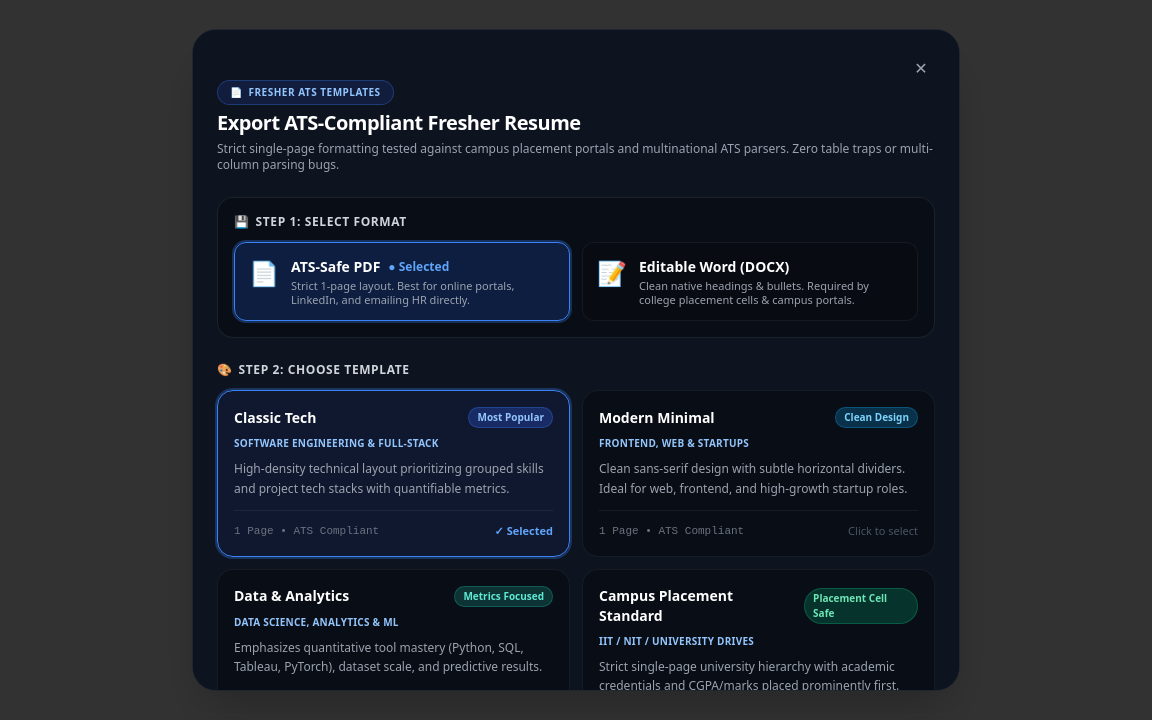
Test case: ExportResumeModal Component › switches between ATS-Safe PDF and Editable Word (DOCX) formats
This screenshot has width=1152, height=720.
Click DOCX format
Click the text "Editable Word (DOCX)". click: (714, 266)
box: 639,257 -> 789,276
(page scrolled)
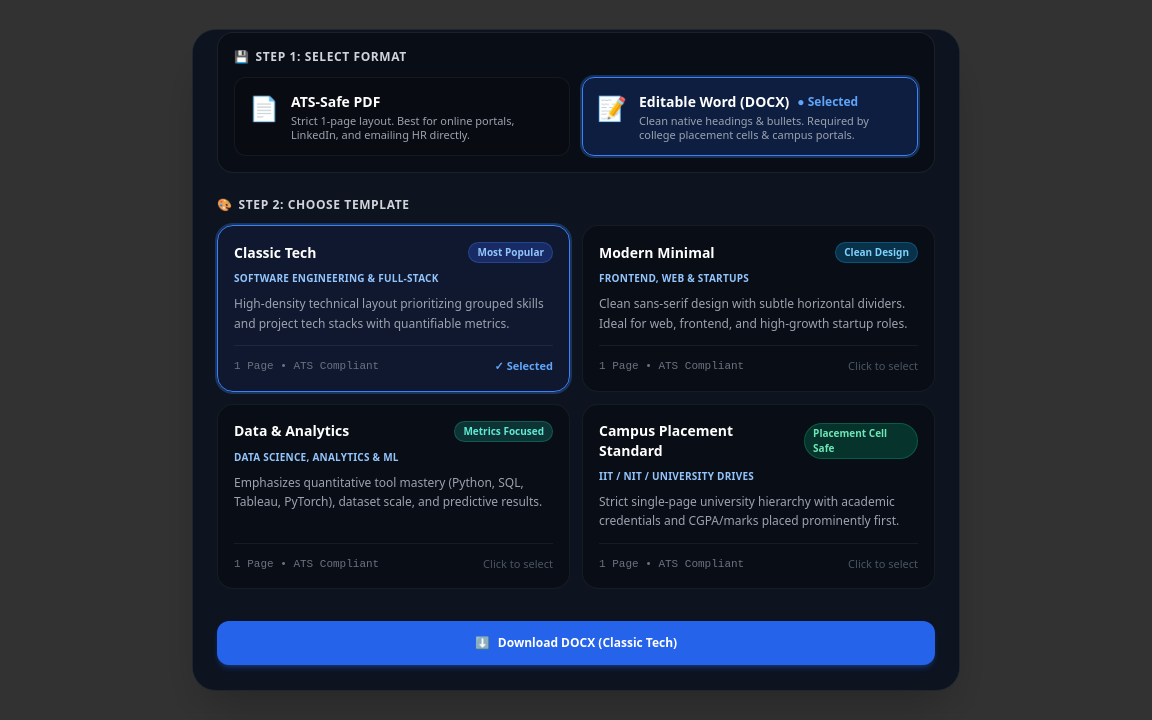
expect the button "⬇️ Download DOCX (Classic Tech)" is shown: met, box 217,621 -> 935,665
